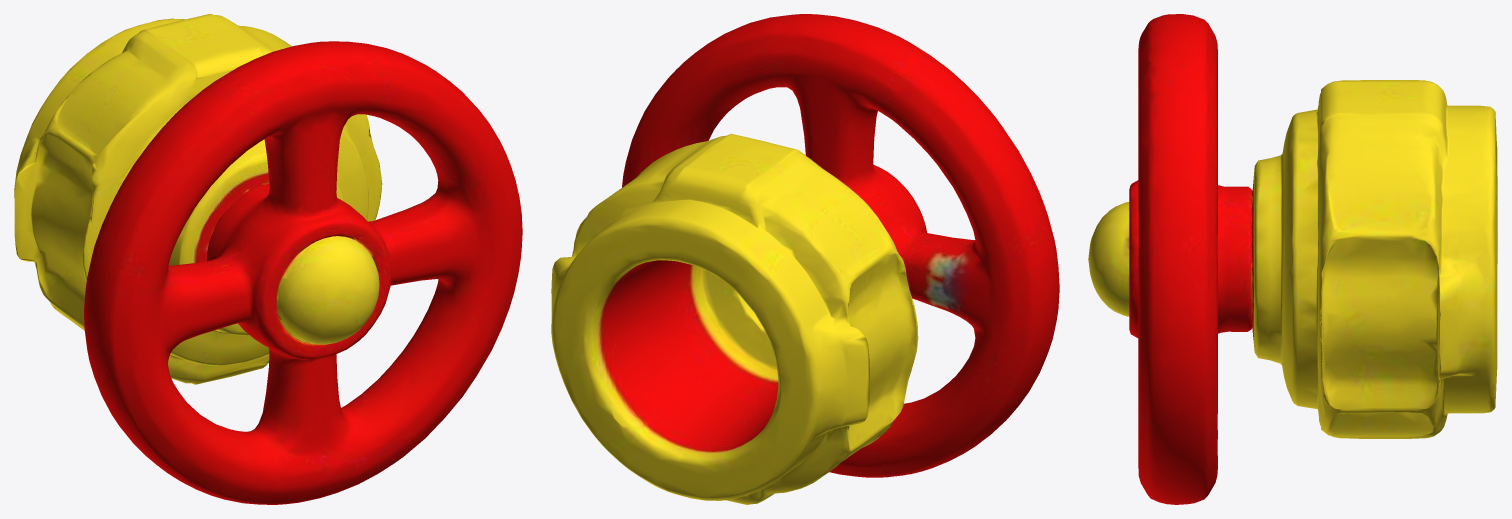
The model's file is valve.glb.
3 views of the same model, side by side, from view 1: azimuth 30°, elevation 25°; view 2: azimuth 150°, elevation 25°; view 3: azimuth 270°, elevation 25° (orthographic).
Parts seen in each view (by area): view 1: tripo_node_0aa8ea5a-5c5b-4a54-babb-88e9cd41d318; view 2: tripo_node_0aa8ea5a-5c5b-4a54-babb-88e9cd41d318; view 3: tripo_node_0aa8ea5a-5c5b-4a54-babb-88e9cd41d318.
Boxes of the visible parts, bbox=[...] form: tripo_node_0aa8ea5a-5c5b-4a54-babb-88e9cd41d318: bbox=[14, 14, 522, 504]; tripo_node_0aa8ea5a-5c5b-4a54-babb-88e9cd41d318: bbox=[551, 14, 1059, 504]; tripo_node_0aa8ea5a-5c5b-4a54-babb-88e9cd41d318: bbox=[1088, 14, 1497, 504].
Size of the model in its own units: 0.9771 by 0.9799 by 0.8133.
Materials: 1 (1 with a texture image).
